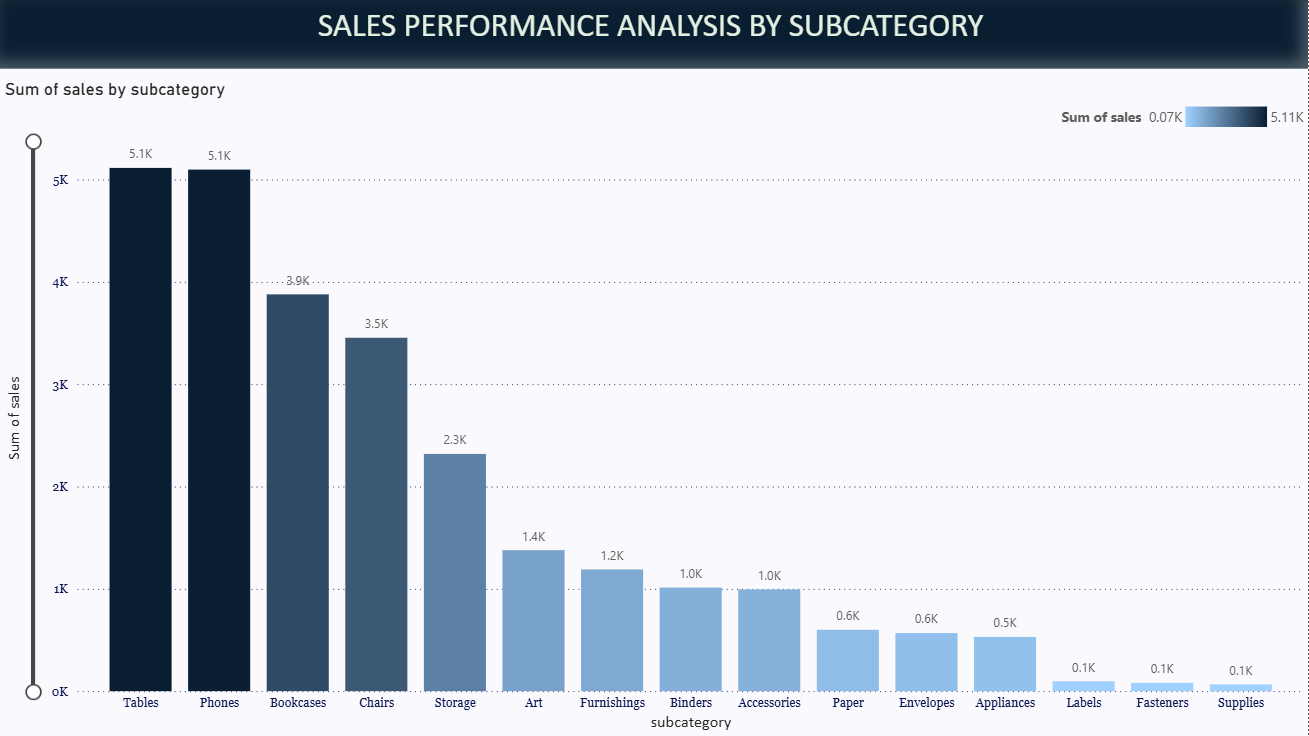

Layout of this report page (visuals, bound fields, positions):
{"tool":"powerbi","page":{"name":"Stacked Column Chart","canvas":[1280,720],"ordinal":1},"visuals":[{"type":"textbox","title":"Report","box":[0,0,1280.3,67.3],"z":0},{"type":"columnChart","fields":{"Y":["Sum(sales.sales)"],"Category":["sales.subcategory"]},"box":[0,77,1280.3,643.2],"z":1000}]}

Visuals, with their boxes in screenshot pixels (x1, y1, x2, y2), scaled from the page's 1280x720 canvas onto the 1309x736 screenshot:
"Report" textbox: [0, 0, 1308, 69]
columnChart - Sum(sales.sales) x sales.subcategory: [0, 79, 1308, 735]
